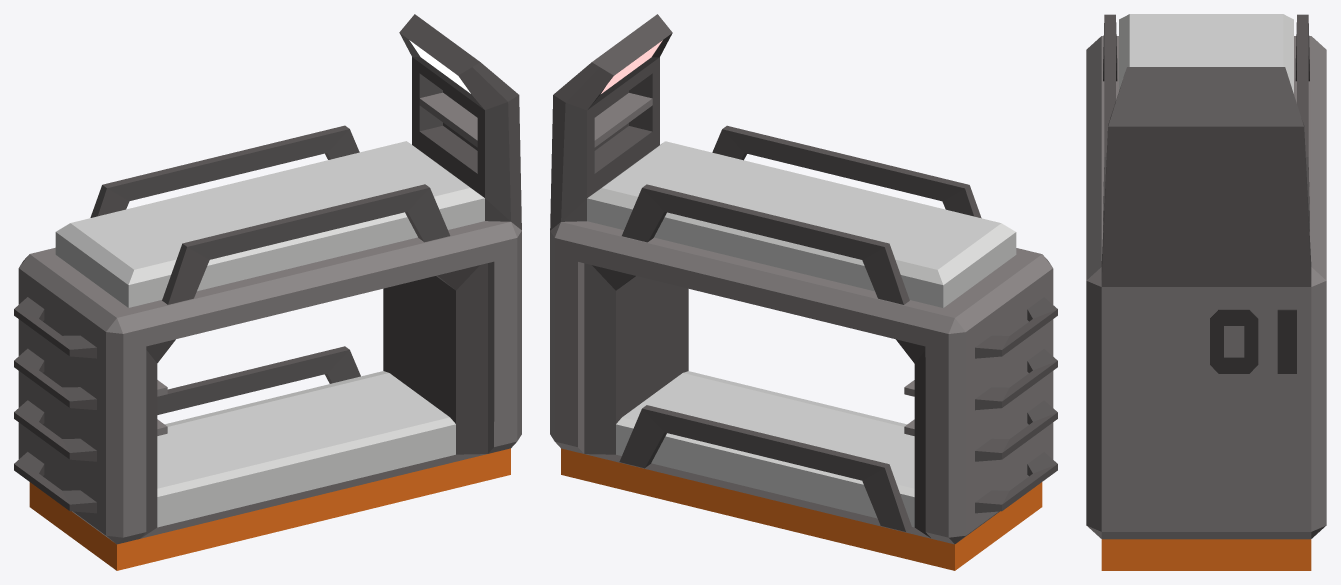
Rendered from scifi_scifi-bunkbed.fbx.
3 renders of one model, left to right at view 1: azimuth 30°, elevation 25°; view 2: azimuth 150°, elevation 25°; view 3: azimuth 270°, elevation 25°, orthographic. The views are drawn at different scales.
Parts seen in each view (by area): view 1: scifi_scifi_bunkbed; view 2: scifi_scifi_bunkbed; view 3: scifi_scifi_bunkbed.
Boxes of the visible parts, left/top/right/bottom form: scifi_scifi_bunkbed: left=14, top=14, right=521, bottom=570; scifi_scifi_bunkbed: left=550, top=14, right=1057, bottom=570; scifi_scifi_bunkbed: left=1086, top=14, right=1326, bottom=570.
Size of the model in its own units: 200 by 179 by 79.14.
